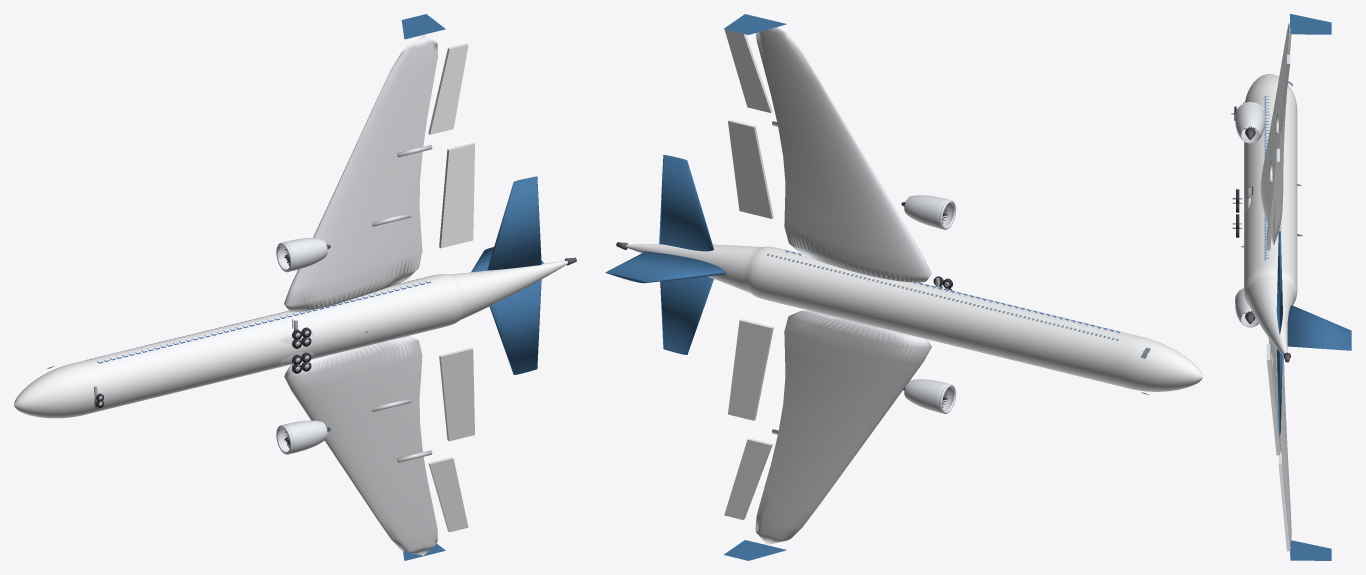
The picture shows the model from 3 angles, left to right: view 1: azimuth 30°, elevation 25°; view 2: azimuth 150°, elevation 25°; view 3: azimuth 270°, elevation 25°; orthographic projection.
Parts seen in each view (by area): view 1: Fuselage, Wing_R, Wing_L, HStab_R, HStab_L, Flap_R, Flap_L, Aileron_R, Aileron_L, Nacelle_-1_0, Nacelle_1_0, Sharklet_R; view 2: Fuselage, Wing_L, Wing_R, HStab_R, Flap_L, HStab_L, Flap_R, Fin, Aileron_L, Aileron_R, Nacelle_1_0, Nacelle_-1_0 (+2 smaller); view 3: Fuselage, Wing_R, Fin, Wing_L, Nacelle_1_0, Sharklet_R, Sharklet_L, Flap_L, Flap_R, Aileron_L, HStab_R, Nacelle_-1_0 (+3 smaller).
Part boxes in pixels (box(x1,y1,x2,y2)): Fuselage: box(14, 260, 567, 418); Wing_R: box(284, 35, 437, 312); Wing_L: box(284, 336, 437, 555); HStab_R: box(487, 176, 541, 270); HStab_L: box(489, 279, 541, 374); Flap_R: box(439, 143, 474, 248); Flap_L: box(439, 348, 474, 441); Aileron_R: box(428, 43, 468, 134); Aileron_L: box(428, 457, 468, 532); Nacelle_-1_0: box(279, 420, 327, 453); Nacelle_1_0: box(279, 238, 327, 271); Sharklet_R: box(401, 14, 445, 39); Fuselage: box(626, 244, 1202, 391); Wing_L: box(755, 310, 931, 544); Wing_R: box(756, 27, 931, 282); HStab_R: box(659, 154, 713, 251); Flap_L: box(728, 319, 773, 420); HStab_L: box(660, 276, 713, 354); Flap_R: box(728, 119, 773, 218); Fin: box(605, 251, 725, 283); Aileron_L: box(724, 438, 772, 519); Aileron_R: box(724, 27, 772, 112); Nacelle_1_0: box(904, 195, 952, 228); Nacelle_-1_0: box(904, 379, 952, 413); Fuselage: box(1244, 74, 1297, 355); Wing_R: box(1260, 23, 1291, 245); Fin: box(1287, 305, 1351, 350); Wing_L: box(1268, 338, 1291, 548); Nacelle_1_0: box(1235, 103, 1265, 143); Sharklet_R: box(1290, 14, 1331, 34); Sharklet_L: box(1290, 540, 1331, 560); Flap_L: box(1266, 344, 1279, 455); Flap_R: box(1266, 148, 1279, 250); Aileron_L: box(1278, 453, 1290, 551); HStab_R: box(1276, 231, 1282, 334); Nacelle_-1_0: box(1235, 289, 1258, 327).
Bounding box in the file's own units: 74.22 × 64.75 × 13.39.
